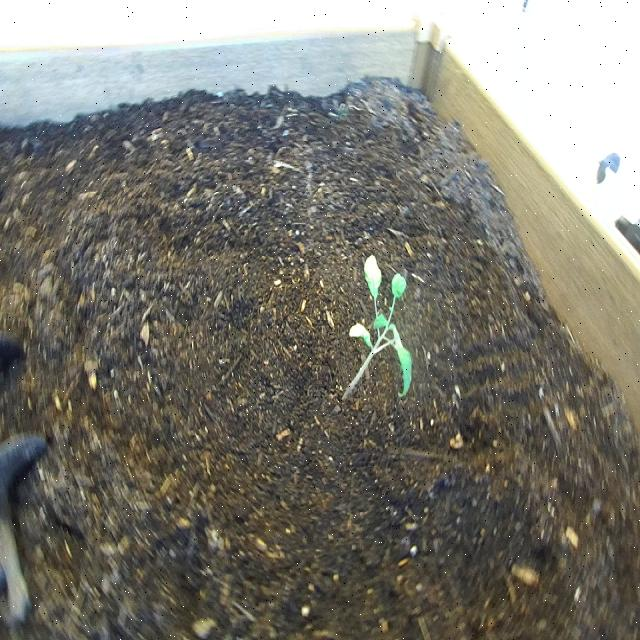Healthy: (335, 252, 418, 410)
